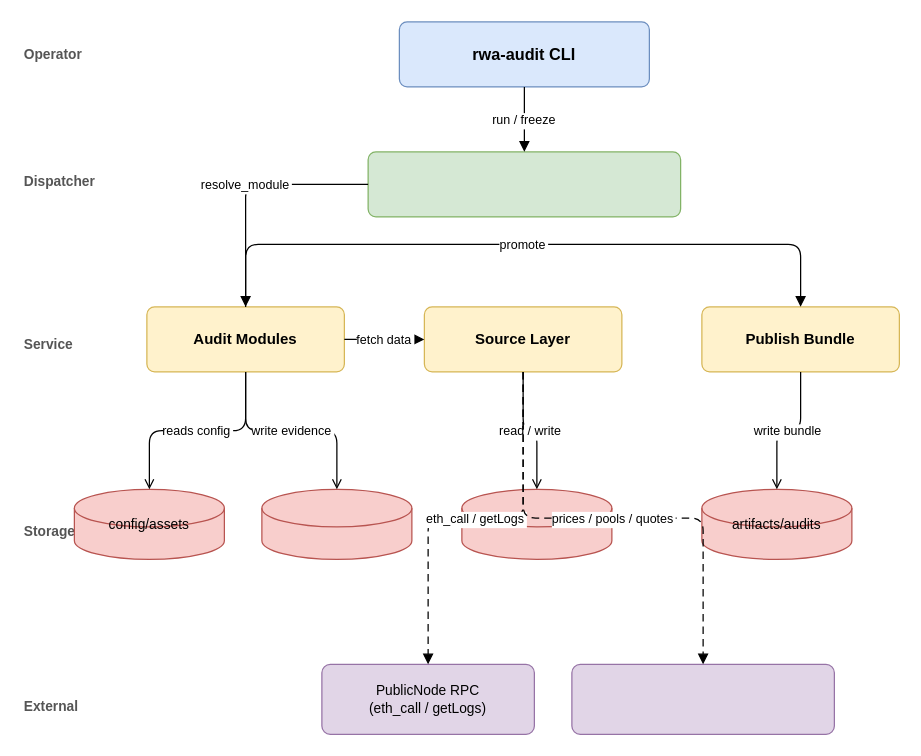
The diagram is 921 pixels wide and 756 high, and some of its shapes have lost their labels. Here are the shapes that lost their labels. From the top down, the centre of each, then its label:
(x=524, y=184): Module Runner
(x=336, y=523): data/scratch
(x=536, y=523): cache/sources
(x=702, y=698): Price & Pool APIs (CoinGecko · GeckoTerminal Jupiter · ParaSwap · Yahoo)
